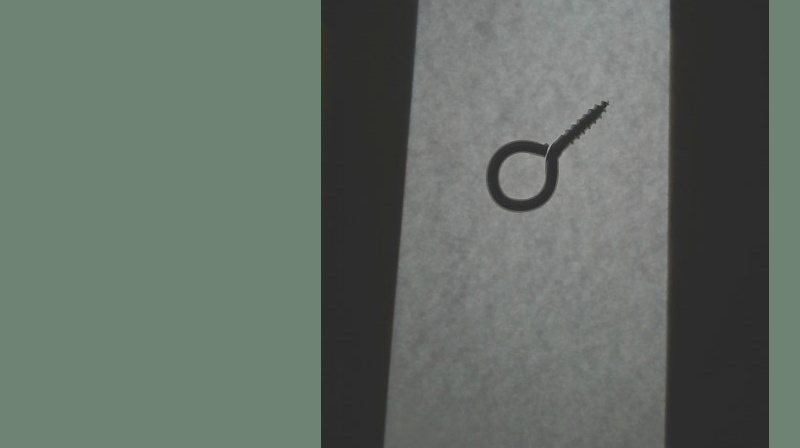O001: (482, 98, 613, 217)
